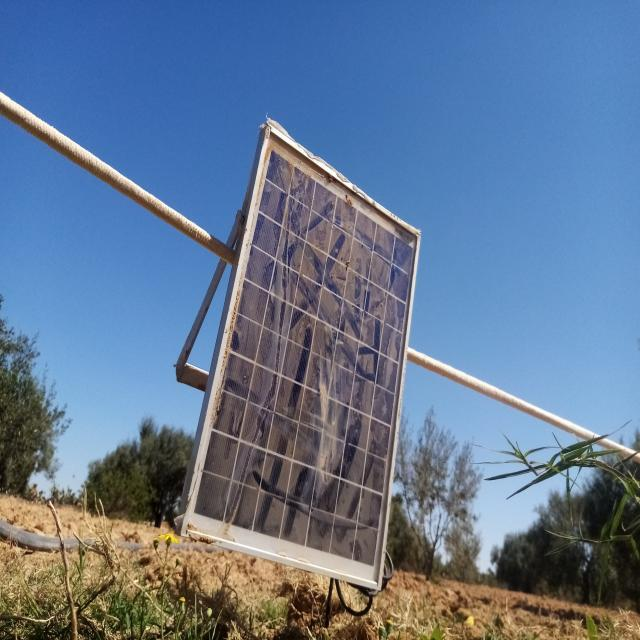faulty: (183, 129, 419, 587)
